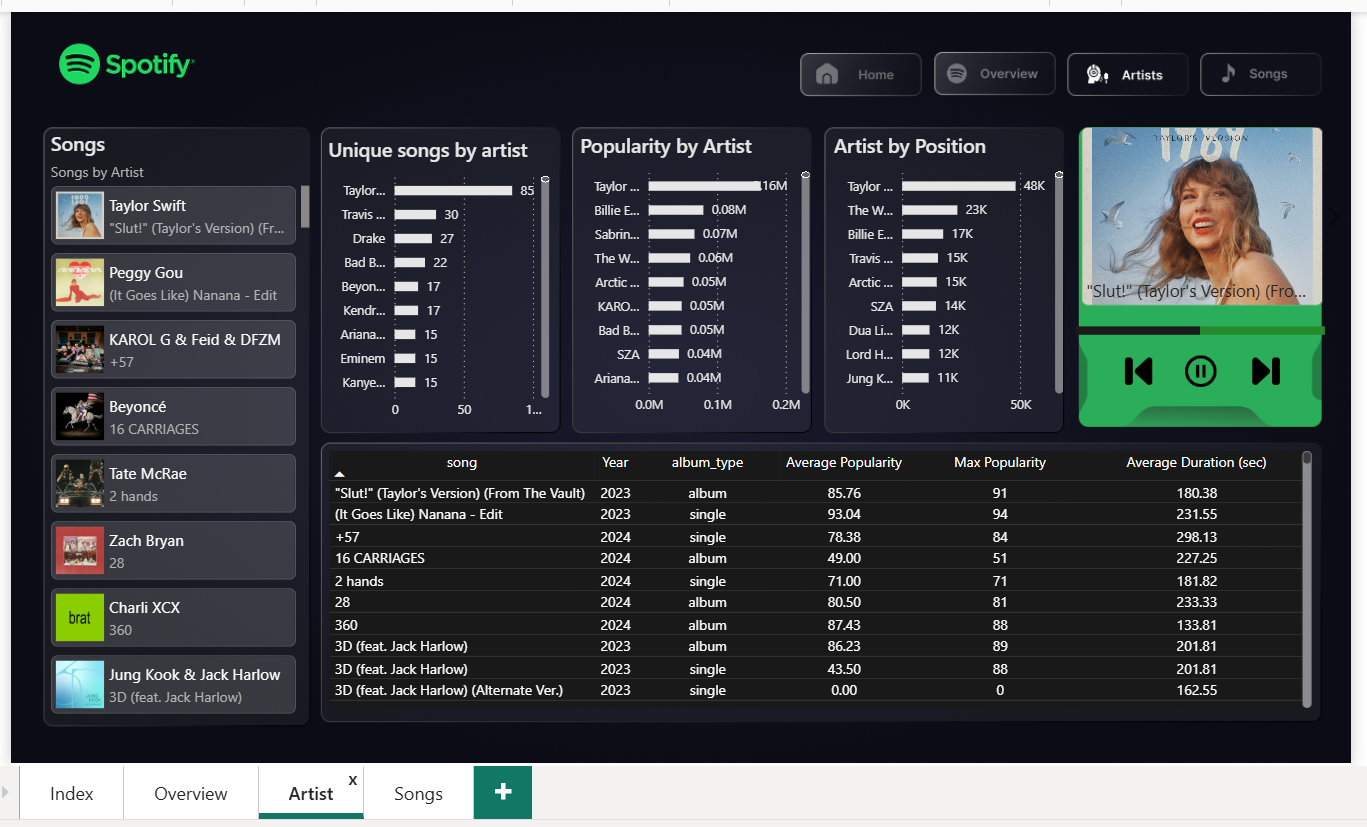

Layout of this report page (visuals, bound fields, positions):
{"tool":"powerbi","page":{"name":"Artist","canvas":[1280,720],"ordinal":2},"visuals":[{"type":"actionButton","box":[755.5,36.6,116.1,39.8],"z":0},{"type":"actionButton","box":[882.8,36.6,116.1,39.8],"z":1000},{"type":"actionButton","box":[1010,36.6,116.1,39.8],"z":2000},{"type":"actionButton","box":[1138.9,36.6,116.1,39.8],"z":3000},{"type":"advancedSlicerVisual","title":"Songs ","fields":{"Values":["Top-50-World.song"]},"box":[997.3,105,281.5,181.3],"z":4000},{"type":"hundredPercentStackedBarChart","fields":{"Y":["_Measures.Average Popularity","Avg(Top-50-World.popularity)"]},"box":[1011.2,265.1,248.1,71.6],"z":5000},{"type":"image","box":[1057.3,327.7,39.8,30.2],"z":6000},{"type":"image","box":[1115.4,327.7,40,30],"z":7000},{"type":"image","box":[1178.2,328.7,39.8,30.2],"z":8000},{"type":"shape","box":[1020.7,104.5,225.9,292.7],"z":9000},{"type":"clusteredBarChart","title":"Unique songs by artist","fields":{"Y":["_Measures.Unique Songs"],"Category":["Top-50-World.artist"]},"box":[297.4,119.3,221.1,278.4],"z":10000},{"type":"clusteredBarChart","title":" Popularity by Artist","fields":{"Category":["Top-50-World.artist"],"Y":["Sum(Top-50-World.popularity)"]},"box":[539.2,114.5,229,278.4],"z":11000},{"type":"clusteredBarChart","title":"Artist by Position","fields":{"Y":["Sum(Top-50-World.position)"],"Category":["Top-50-World.artist"]},"box":[781,114.5,229,278.4],"z":12000},{"type":"advancedSlicerVisual","title":"Songs ","fields":{"Values":["Top-50-World.song"]},"box":[33.4,112.9,257.7,567.8],"z":13000},{"type":"tableEx","fields":{"Values":["Top-50-World.song","Top-50-World.release_date.Variation.Date Hierarchy.Year","Top-50-World.album_type","_Measures.Average Popularity","_Measures.Max Popularity","_Measures.Average Duration (sec)"]},"box":[297.9,413.5,949,255.6],"z":14000}]}

Visuals, with their boxes on the page's 1280x720 design canvas (x1, y1, x2, y2). These are canvas units, not pixel positions in the 1367x827 screenshot, which may show the page scaled, cropped or inside an application window:
actionButton: (x1=756, y1=37, x2=872, y2=76)
actionButton: (x1=883, y1=37, x2=999, y2=76)
actionButton: (x1=1010, y1=37, x2=1126, y2=76)
actionButton: (x1=1139, y1=37, x2=1255, y2=76)
"Songs " advancedSlicerVisual: (x1=997, y1=105, x2=1279, y2=286)
hundredPercentStackedBarChart - _Measures.Average Popularity x Avg(Top-50-World.popularity): (x1=1011, y1=265, x2=1259, y2=337)
image: (x1=1057, y1=328, x2=1097, y2=358)
image: (x1=1115, y1=328, x2=1155, y2=358)
image: (x1=1178, y1=329, x2=1218, y2=359)
shape: (x1=1021, y1=104, x2=1247, y2=397)
"Unique songs by artist" clusteredBarChart: (x1=297, y1=119, x2=518, y2=398)
" Popularity by Artist" clusteredBarChart: (x1=539, y1=114, x2=768, y2=393)
"Artist by Position" clusteredBarChart: (x1=781, y1=114, x2=1010, y2=393)
"Songs " advancedSlicerVisual: (x1=33, y1=113, x2=291, y2=681)
tableEx - Top-50-World.song x Top-50-World.release_date.Variation.Date Hierarchy.Year: (x1=298, y1=414, x2=1247, y2=669)
